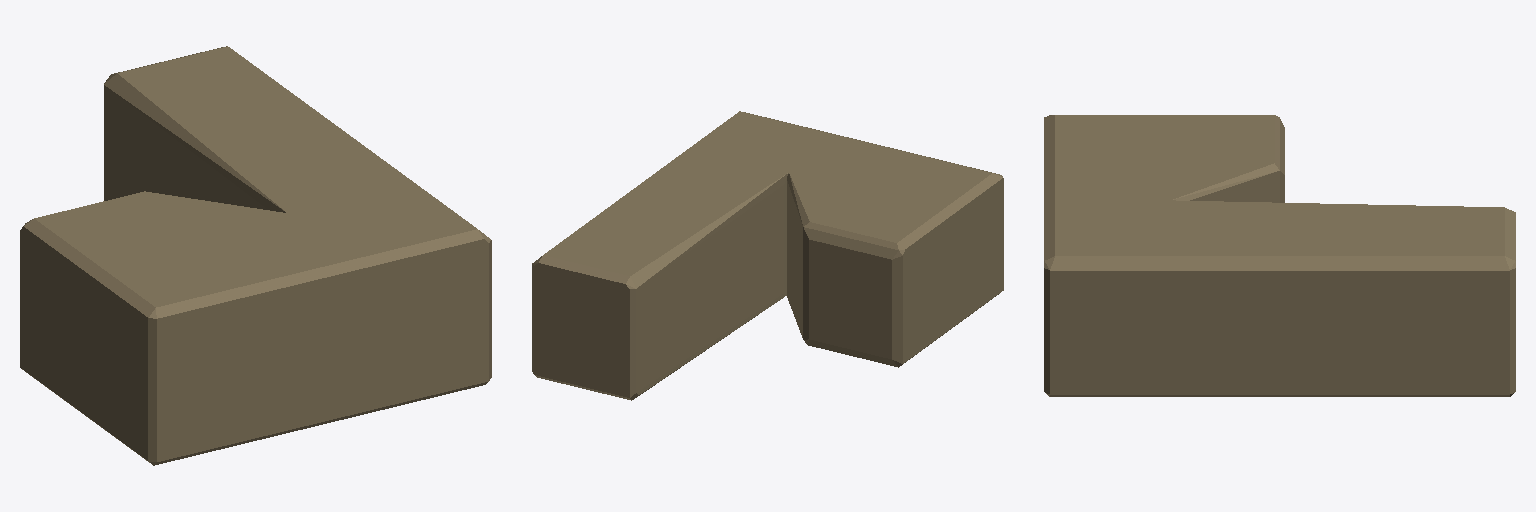
URDF robot description (J_Block):
<?xml version="1.0"?>
<robot name="J_Block">
  <link name="base_link">
    <visual>
      <origin xyz="0 0 0" rpy="0 0 0" />
      <geometry>
        <mesh filename="J_Block.obj"/>      
      </geometry>
      <material name="tan">
        <color rgba="0.55 0.5 0.4 1"/>
      </material>
    </visual>
    <collision>
      <origin xyz="0 0 0" rpy="0 0 0" />
      <geometry>
        <mesh filename="J_Block.obj"/>
      </geometry>
    </collision>
  </link>
</robot>

--- Facts derived from the render (not from the file) ---
Views: 3 orthographic renders of the robot side by side, from view 1: azimuth 30°, elevation 25°; view 2: azimuth 150°, elevation 25°; view 3: azimuth 270°, elevation 25°.
Model J_Block with 1 links and 0 joints (none), rooted at base_link, posed every joint at zero.
Links seen in each view (by area): view 1: base_link; view 2: base_link; view 3: base_link.
Link boxes in pixels (box(x1,y1,x2,y2)): base_link: box(20, 46, 491, 465); base_link: box(532, 111, 1003, 400); base_link: box(1044, 115, 1515, 396).
Bounding box of the posed robot: 38.85 × 51.4 × 16.73 m (x, y, z).
1 mesh visuals loaded from 1 distinct referenced files (1 OBJ).
